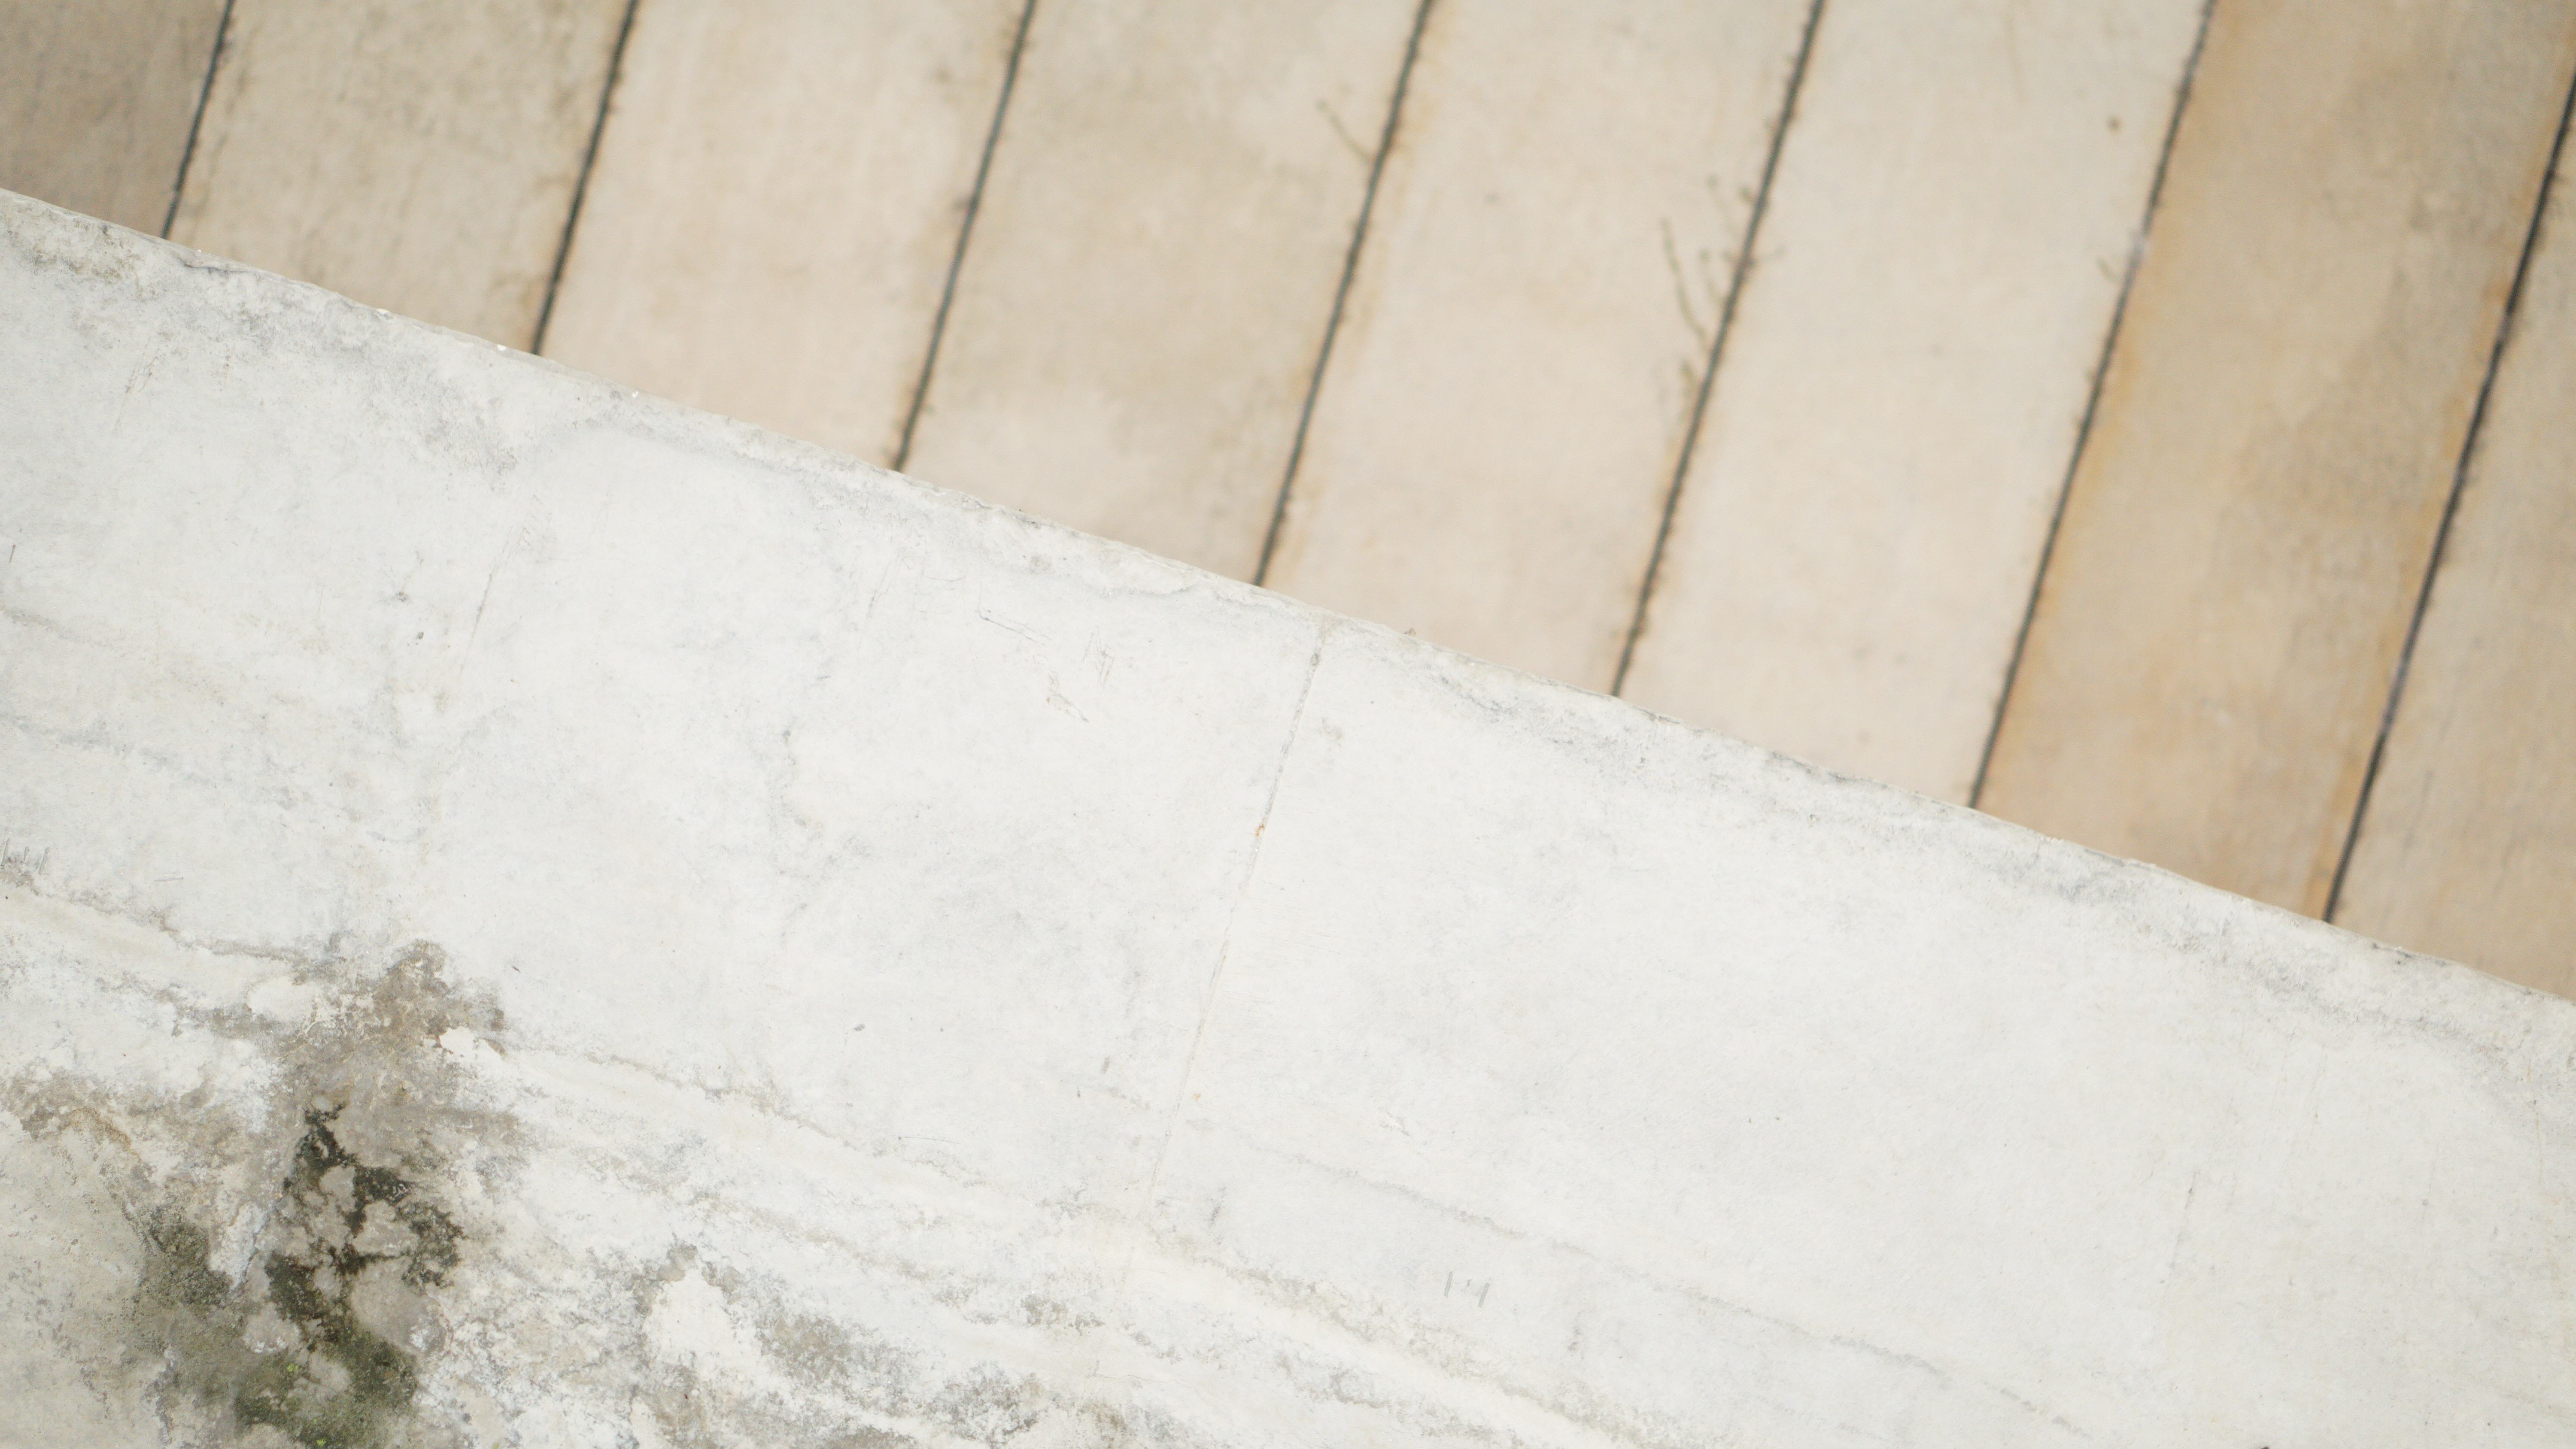Corrosion: (0, 939, 1233, 1449)
